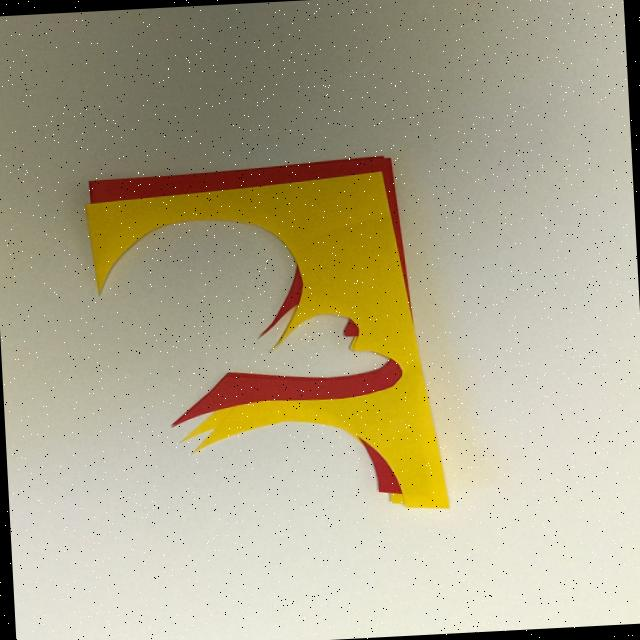paper: (83, 154, 450, 528)
